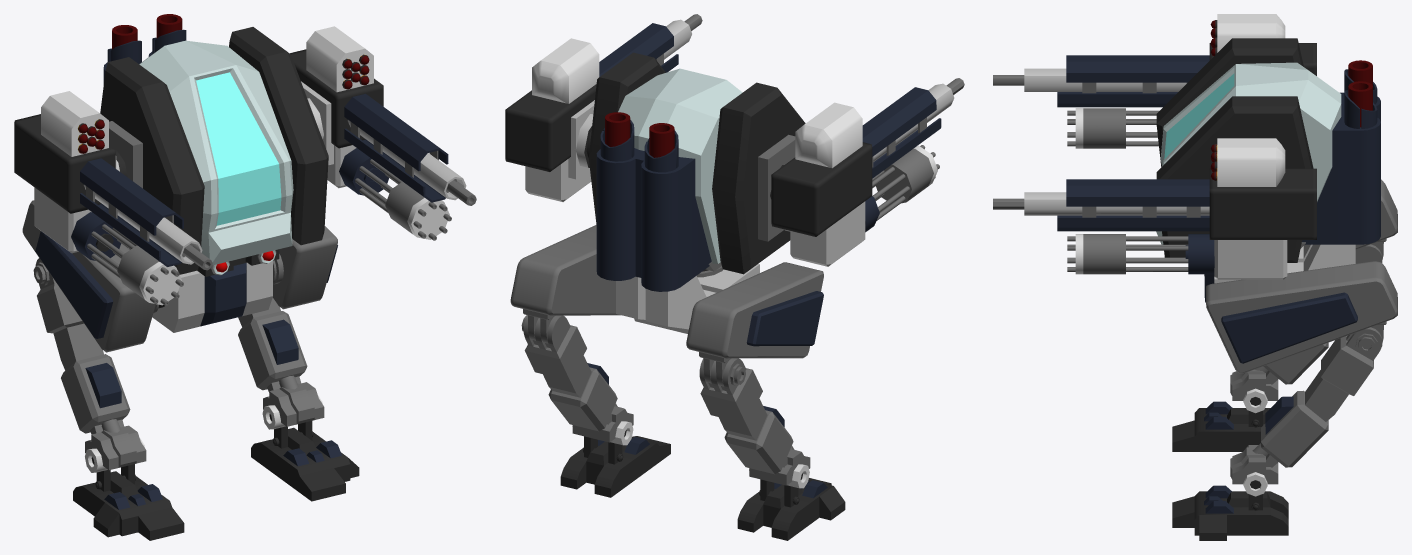
File: Robot_1.FBX
3 views of the same model, side by side, from view 1: azimuth 30°, elevation 25°; view 2: azimuth 150°, elevation 25°; view 3: azimuth 270°, elevation 25° (orthographic). The views are drawn at different scales.
Parts seen in each view (by area): view 1: Robot_Body, Laser_R_mod, Laser_L_mod, Robot_R_downleg, Robot_R_upleg, Robot_L_downleg, Rocket_L_pylon (×2), Robot_Central, Robot_R_foot, Robot_L_foot, Gatling_R_mod, Gatling_L_mod (+1 smaller); view 2: Robot_Body, Laser_R_mod, Robot_R_upleg, Laser_L_mod, Robot_L_downleg, Robot_R_downleg, Robot_L_upleg, Rocket_L_pylon (×2), Robot_R_foot, Robot_Central, Robot_L_foot, Gatling_R_mod; view 3: Robot_Body, Laser_L_mod, Robot_L_upleg, Robot_L_downleg, Laser_R_mod, Rocket_L_pylon (×2), Robot_L_foot, Gatling_L_mod, Robot_R_foot, Robot_R_downleg, Gatling_R_mod, Robot_Central (+1 smaller).
Boxes of the visible parts, x1,y1,x2,y2 form: Robot_Body: (100, 14, 328, 276); Laser_R_mod: (14, 114, 212, 270); Laser_L_mod: (290, 49, 476, 205); Robot_R_downleg: (33, 258, 146, 472); Robot_R_upleg: (22, 200, 164, 352); Robot_L_downleg: (238, 297, 324, 429); Rocket_L_pylon (×2): (41, 26, 373, 156); Robot_Central: (129, 249, 272, 332); Robot_R_foot: (73, 464, 184, 540); Robot_L_foot: (251, 421, 359, 501); Gatling_R_mod: (71, 212, 183, 305); Gatling_L_mod: (339, 148, 451, 240); Robot_Body: (588, 52, 805, 291); Laser_R_mod: (770, 78, 964, 266); Robot_R_upleg: (686, 262, 823, 386); Laser_L_mod: (505, 14, 702, 201); Robot_L_downleg: (521, 315, 633, 445); Robot_R_downleg: (699, 358, 810, 488); Robot_L_upleg: (510, 225, 620, 343); Rocket_L_pylon (×2): (532, 38, 862, 168); Robot_R_foot: (737, 478, 845, 540); Robot_Central: (616, 264, 759, 333); Robot_L_foot: (560, 436, 670, 497); Gatling_R_mod: (865, 145, 939, 232); Robot_Body: (1156, 38, 1380, 262); Laser_L_mod: (993, 168, 1316, 279); Robot_L_upleg: (1206, 261, 1397, 373); Robot_L_downleg: (1230, 327, 1382, 496); Laser_R_mod: (993, 43, 1316, 107); Rocket_L_pylon (×2): (1214, 14, 1285, 186); Robot_L_foot: (1172, 485, 1288, 540); Gatling_L_mod: (1067, 234, 1214, 274); Robot_R_foot: (1172, 401, 1270, 451); Robot_R_downleg: (1230, 244, 1382, 413); Gatling_R_mod: (1067, 108, 1159, 148); Robot_Central: (1204, 244, 1355, 302).
Size of the model in its own units: 382 by 493 by 442.
Materials: 1 (1 with a texture image).
